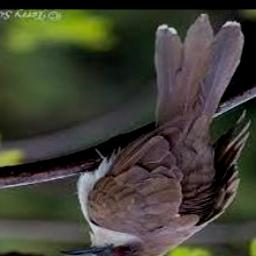Cuckoo: (61, 16, 253, 256)
